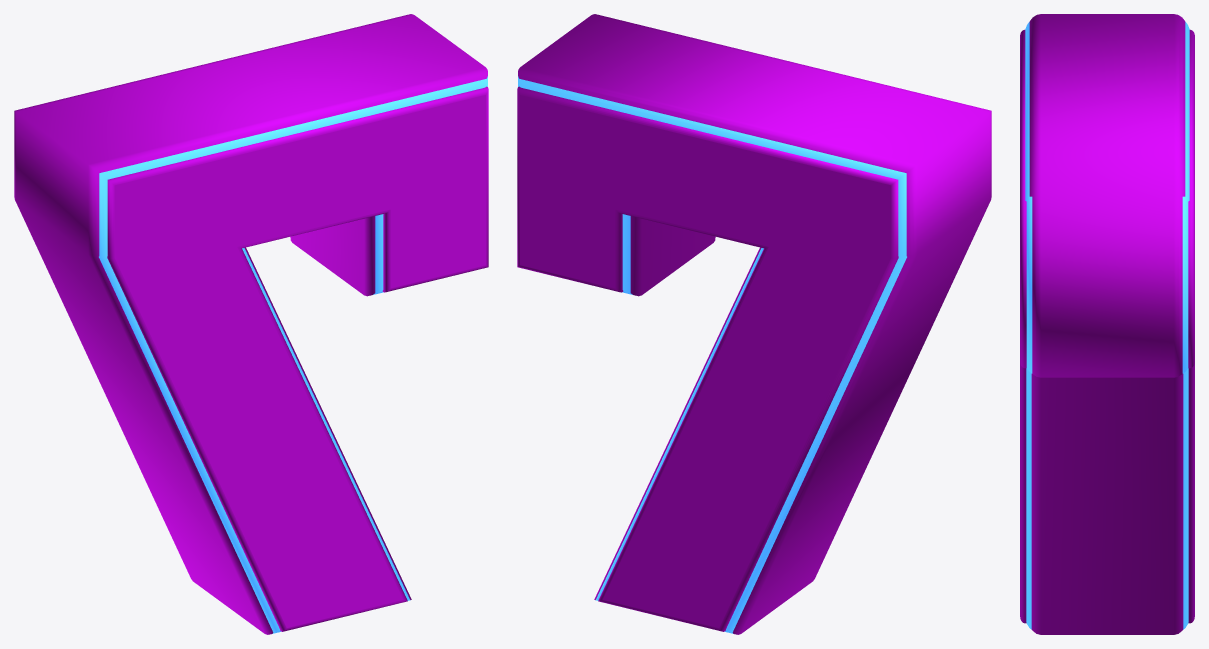
Rendered from seven.fbx.
3 views of the same model, side by side, from view 1: azimuth 30°, elevation 25°; view 2: azimuth 150°, elevation 25°; view 3: azimuth 270°, elevation 25° (orthographic). The views are drawn at different scales.
Parts seen in each view (by area): view 1: Object_8; view 2: Object_8; view 3: Object_8.
Part boxes in pixels (box(x1,y1,x2,y2)): Object_8: box(14, 14, 488, 634); Object_8: box(517, 14, 991, 634); Object_8: box(1020, 14, 1194, 634).
Bounding box in the file's own units: 2524 × 3108 × 1037.
